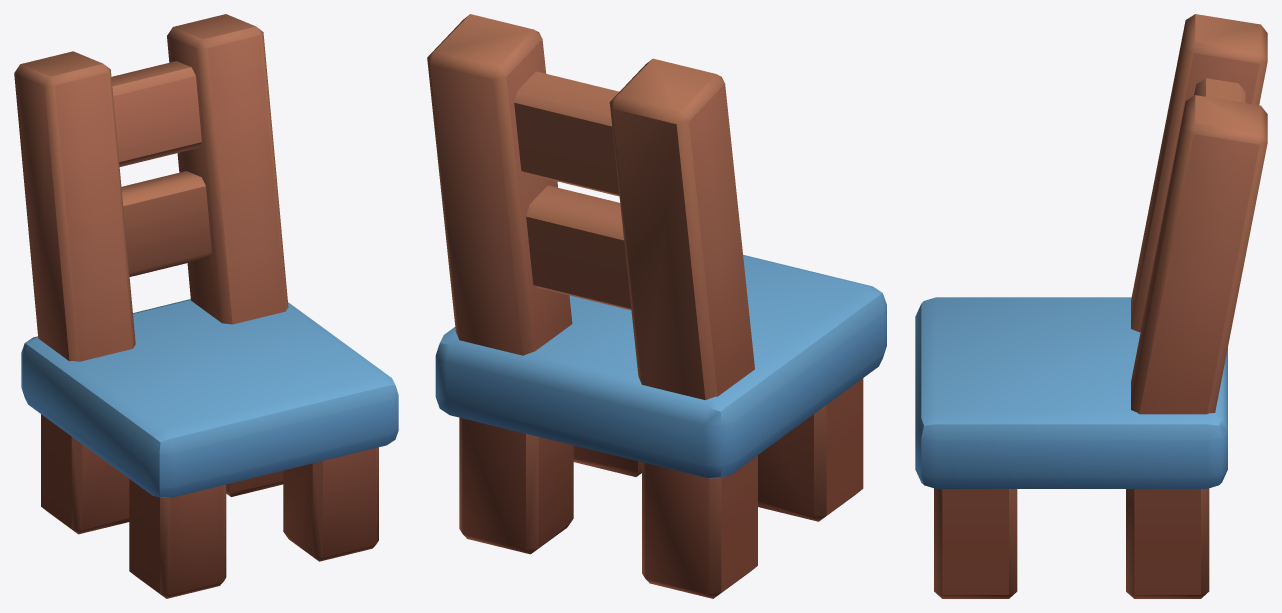
The model's file is kay-cadeira-estofada.gltf.
The picture shows the model from 3 angles, left to right: view 1: azimuth 30°, elevation 25°; view 2: azimuth 150°, elevation 25°; view 3: azimuth 270°, elevation 25°; orthographic projection. The views are drawn at different scales.
Visible parts, largest first — view 1: chair_A; view 2: chair_A; view 3: chair_A.
Part boxes in pixels (x1,y1,x2,y2): chair_A: (14,14,398,598); chair_A: (427,14,886,598); chair_A: (915,14,1267,598).
Size of the model in its own units: 0.4875 by 0.8179 by 0.5493.
1 material, 1 textured.
